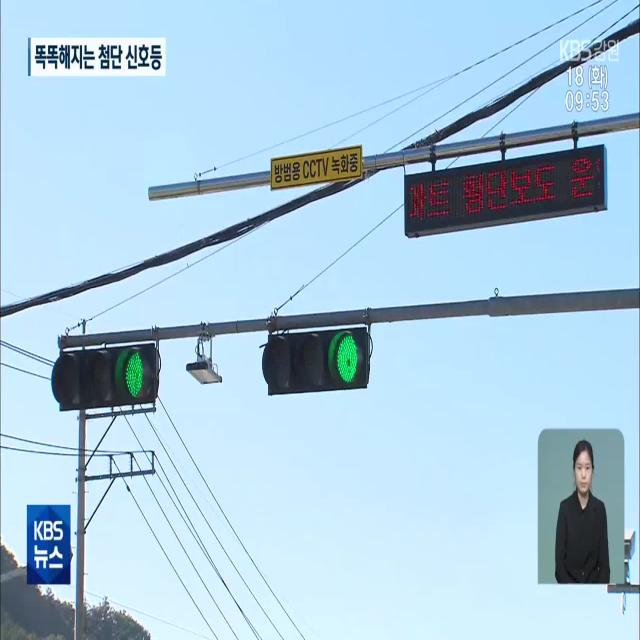Green Light: (115, 337, 156, 410), (327, 322, 368, 395)
